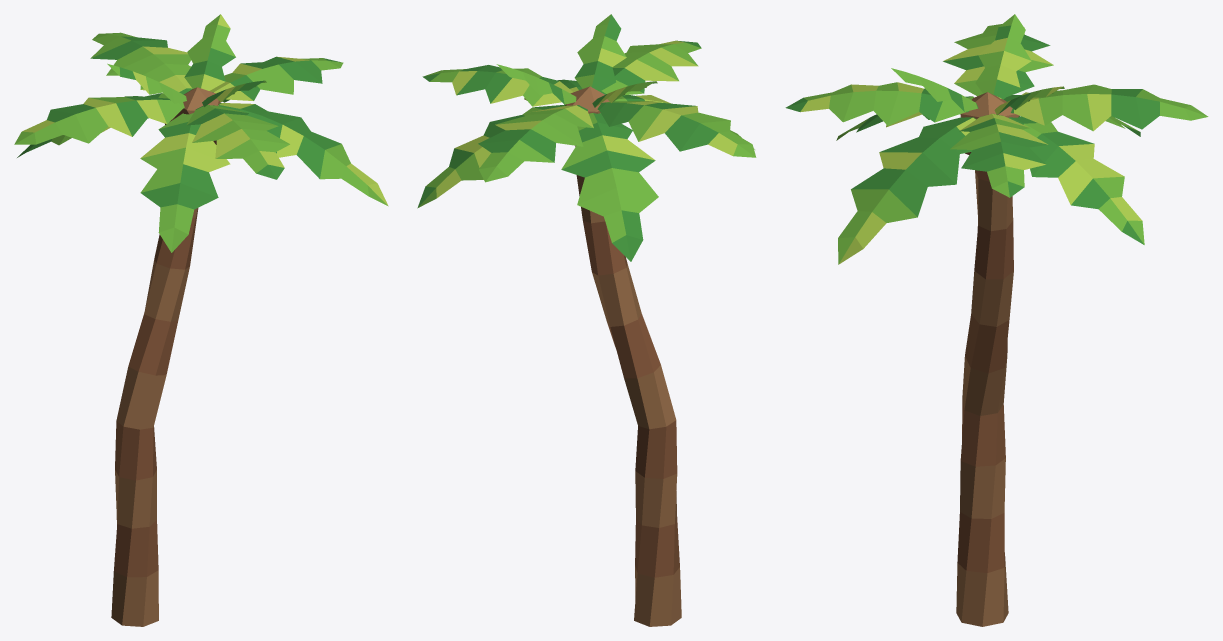
File: palm_b.glb
3 renders of one model, left to right at view 1: azimuth 30°, elevation 25°; view 2: azimuth 150°, elevation 25°; view 3: azimuth 270°, elevation 25°, orthographic. The views are drawn at different scales.
Parts seen in each view (by area): view 1: body; view 2: body; view 3: body.
Part boxes in pixels (left/top/right/bottom): body: left=14, top=14, right=388, bottom=626; body: left=417, top=14, right=756, bottom=626; body: left=785, top=14, right=1208, bottom=626.
Bounding box in the file's own units: 4.06 × 6.41 × 4.14.
